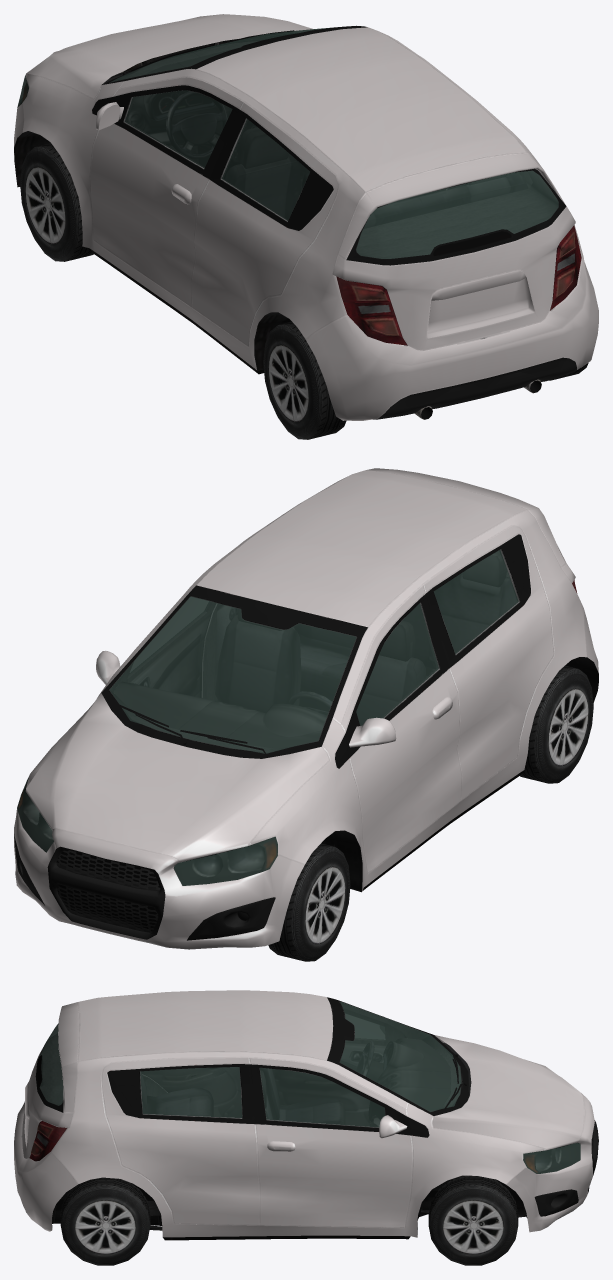
The model's file is hatchback.glb.
The picture shows the model from 3 angles, top to bottom: view 1: azimuth 30°, elevation 25°; view 2: azimuth 150°, elevation 25°; view 3: azimuth 270°, elevation 25°; orthographic projection. The views are drawn at different scales.
Parts seen in each view (by area): view 1: body_MODERNHATCH_body_0, door_rear_MODERNHATCH_body_0, body_MODERNHATCH_INTERIOR_0, bumper_rear_MODERNHATCH_body_0, door_fl_MODERNHATCH_body_0, door_rl_MODERNHATCH_body_0, door_rear_GLASS_0, hood_MODERNHATCH_body_0, wheel_rl_MODERNHATCH_body_0, wheel_fl_MODERNHATCH_body_0, door_fl_GLASS_0, door_rl_GLASS_0 (+1 smaller); view 2: body_MODERNHATCH_body_0, body_MODERNHATCH_INTERIOR_0, hood_MODERNHATCH_body_0, body_GLASS_0, bumper_front_MODERNHATCH_body_0, door_fl_MODERNHATCH_body_0, door_rl_MODERNHATCH_body_0, wheel_fl_MODERNHATCH_body_0, wheel_rl_MODERNHATCH_body_0, door_fl_GLASS_0, door_rl_GLASS_0, headlights_GLASS_0 (+5 smaller); view 3: body_MODERNHATCH_body_0, door_fr_MODERNHATCH_body_0, door_rr_MODERNHATCH_body_0, body_MODERNHATCH_INTERIOR_0, hood_MODERNHATCH_body_0, body_GLASS_0, wheel_fr_MODERNHATCH_body_0, wheel_rr_MODERNHATCH_body_0, door_fr_GLASS_0, door_rr_GLASS_0, bumper_front_MODERNHATCH_body_0, door_rear_MODERNHATCH_body_0 (+7 smaller).
Boxes of the visible parts, x1,y1,x2,y2 form: body_MODERNHATCH_body_0: (14, 25, 583, 419); door_rear_MODERNHATCH_body_0: (332, 152, 575, 350); body_MODERNHATCH_INTERIOR_0: (112, 40, 558, 258); bumper_rear_MODERNHATCH_body_0: (305, 257, 598, 420); door_fl_MODERNHATCH_body_0: (90, 77, 243, 307); door_rl_MODERNHATCH_body_0: (191, 102, 338, 346); door_rear_GLASS_0: (356, 170, 558, 258); hood_MODERNHATCH_body_0: (26, 14, 313, 98); wheel_rl_MODERNHATCH_body_0: (263, 321, 346, 439); wheel_fl_MODERNHATCH_body_0: (20, 143, 93, 261); door_fl_GLASS_0: (124, 90, 232, 168); door_rl_GLASS_0: (222, 119, 309, 220); body_MODERNHATCH_body_0: (26, 470, 598, 892); body_MODERNHATCH_INTERIOR_0: (110, 551, 516, 846); hood_MODERNHATCH_body_0: (25, 693, 329, 862); body_GLASS_0: (109, 596, 356, 753); bumper_front_MODERNHATCH_body_0: (14, 807, 304, 949); door_fl_MODERNHATCH_body_0: (341, 585, 461, 873); door_rl_MODERNHATCH_body_0: (423, 526, 554, 800); wheel_fl_MODERNHATCH_body_0: (268, 843, 350, 961); wheel_rl_MODERNHATCH_body_0: (520, 665, 593, 783); door_fl_GLASS_0: (356, 603, 438, 725); door_rl_GLASS_0: (433, 550, 518, 653); headlights_GLASS_0: (17, 777, 277, 885); body_MODERNHATCH_body_0: (29, 990, 545, 1240); door_fr_MODERNHATCH_body_0: (249, 1058, 412, 1227); door_rr_MODERNHATCH_body_0: (101, 1058, 259, 1225); body_MODERNHATCH_INTERIOR_0: (40, 1002, 460, 1215); hood_MODERNHATCH_body_0: (432, 1035, 585, 1150); body_GLASS_0: (340, 1001, 461, 1111); wheel_fr_MODERNHATCH_body_0: (428, 1175, 518, 1265); wheel_rr_MODERNHATCH_body_0: (60, 1177, 150, 1265); door_fr_GLASS_0: (260, 1067, 385, 1127); door_rr_GLASS_0: (140, 1067, 242, 1117); bumper_front_MODERNHATCH_body_0: (506, 1093, 598, 1232); door_rear_MODERNHATCH_body_0: (22, 1002, 79, 1158).
Size of the model in its own units: 1.03 by 0.8635 by 2.3.
Materials: 3 (2 with a texture image).
